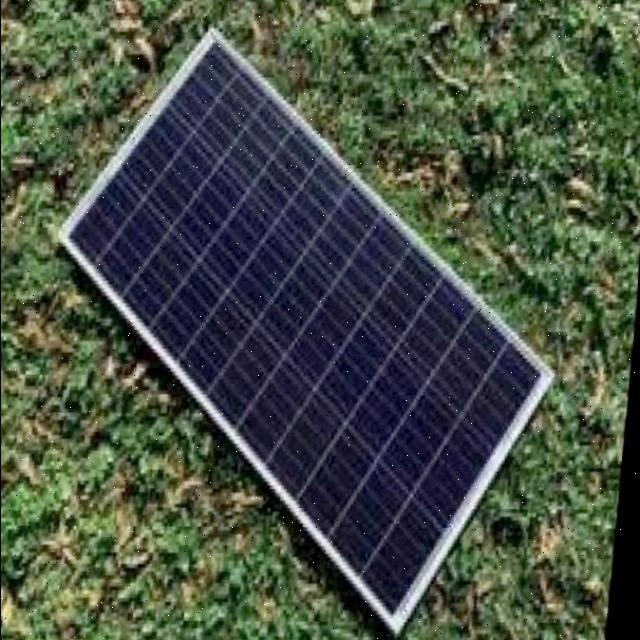Normal Solar Panel: (28, 20, 584, 640)
